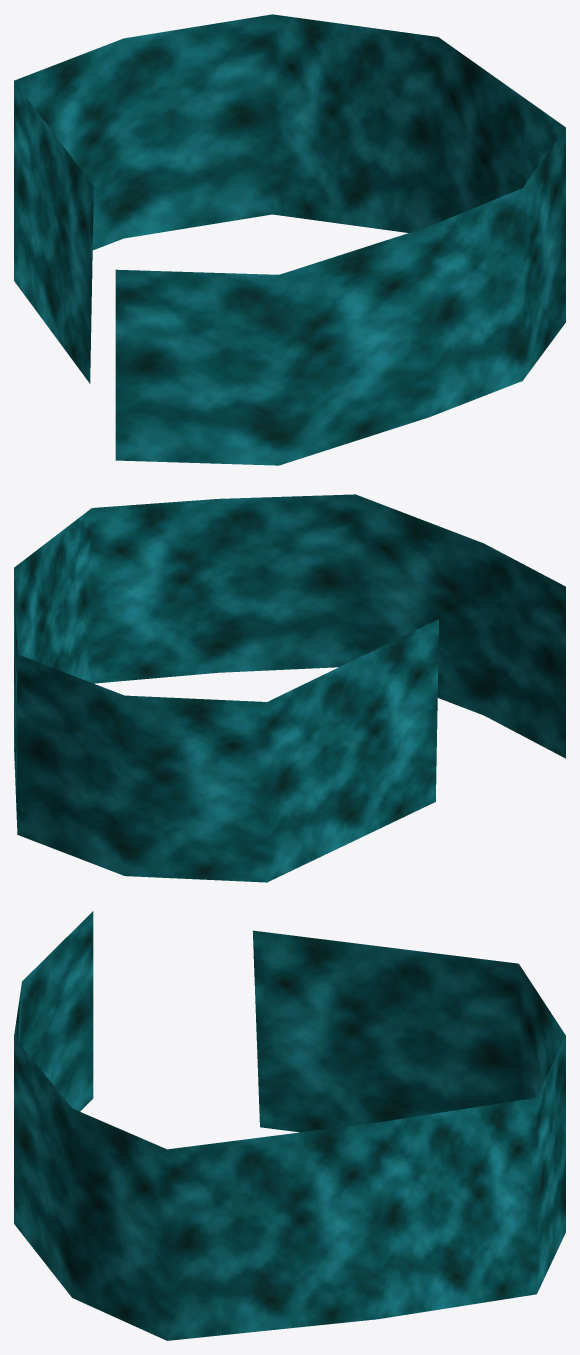
File: MIRKWOOD_FOGI01.fbx
3 renders of one model, top to bottom at view 1: azimuth 30°, elevation 25°; view 2: azimuth 150°, elevation 25°; view 3: azimuth 270°, elevation 25°, orthographic. The views are drawn at different scales.
Parts seen in each view (by area): view 1: MIRKWOOD_FOGI01; view 2: MIRKWOOD_FOGI01; view 3: MIRKWOOD_FOGI01.
Part boxes in pixels (box(x1,y1,x2,y2)): MIRKWOOD_FOGI01: box(14, 14, 565, 465); MIRKWOOD_FOGI01: box(14, 494, 565, 882); MIRKWOOD_FOGI01: box(14, 911, 565, 1340).
Size of the model in its own units: 258679 by 110608 by 257796.
1 material, 1 textured.
